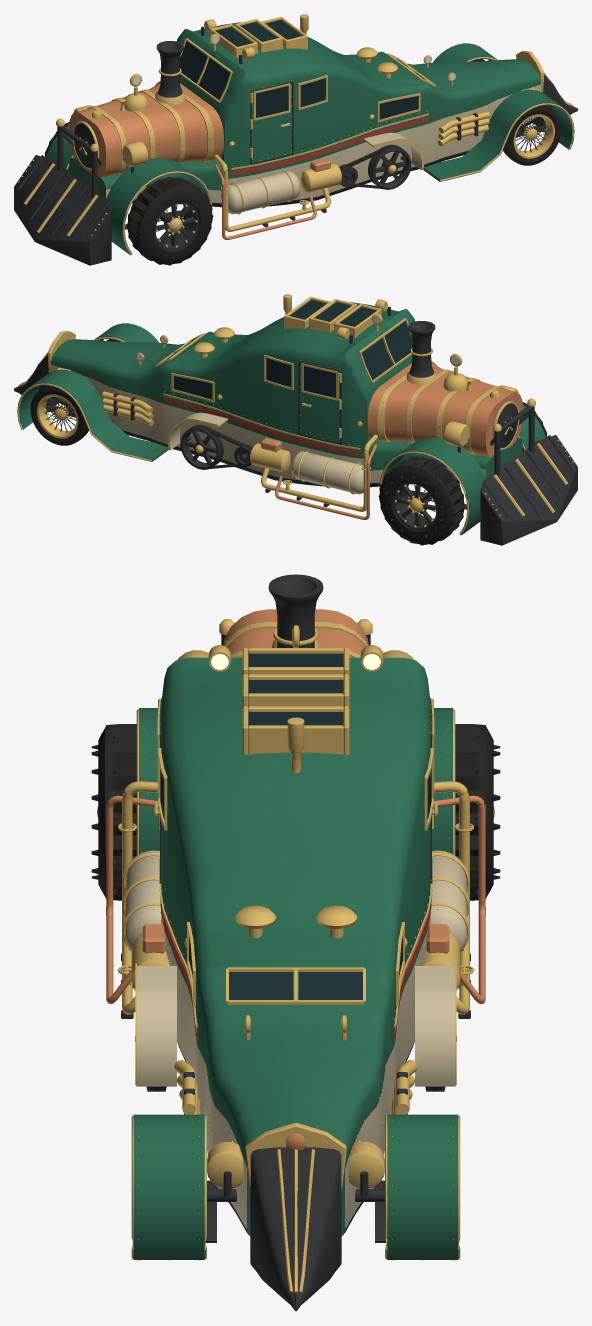
Rendered from boilerfang_blueprint.glb.
3 renders of one model, top to bottom at view 1: azimuth 30°, elevation 25°; view 2: azimuth 150°, elevation 25°; view 3: azimuth 270°, elevation 25°, orthographic. The views are drawn at different scales.
Parts seen in each view (by area): view 1: Body_Hull.001, Detail_Brass, Body_BoilerBarrel.001, Body_PlowTruck.001, Wheel_Truck_Tire_-1.001, Body_FenderSpeedster_-.001, Detail_Iron, Body_FenderTruck_-.001, Body_SideTank_-1.001, Body_Smokestack.001, Prop_MidDrive_Flywheel_-1.001, Wheel_Coupe_Tire_-1.001 (+21 smaller); view 2: Body_Hull.001, Detail_Brass, Body_BoilerBarrel.001, Body_PlowTruck.001, Wheel_Truck_Tire_+1.001, Body_FenderSpeedster_+.001, Detail_Iron, Body_FenderTruck_+.001, Body_SideTank_+1.001, Body_Smokestack.001, Prop_MidDrive_Flywheel_+1.001, Wheel_Coupe_Tire_+1.001 (+21 smaller); view 3: Body_Hull.001, Detail_Brass, Body_ProwSpeedster.001, Body_FenderSpeedster_-.001, Body_FenderSpeedster_+.001, Detail_Copper, Wheel_Truck_Tire_-1.001, Wheel_Truck_Tire_+1.001, Prop_MidDrive_Guard_-1.001, Prop_MidDrive_Guard_+1.001, Detail_Iron, Body_BoilerBarrel.001 (+10 smaller).
Boxes of the visible parts, <box> form: Body_Hull.001: <box>69,22,540,207</box>; Detail_Brass: <box>18,14,574,254</box>; Body_BoilerBarrel.001: <box>69,83,223,177</box>; Body_PlowTruck.001: <box>14,155,111,265</box>; Wheel_Truck_Tire_-1.001: <box>126,176,213,265</box>; Body_FenderSpeedster_-.001: <box>423,89,574,181</box>; Detail_Iron: <box>18,26,545,236</box>; Body_FenderTruck_-.001: <box>106,157,212,255</box>; Body_SideTank_-1.001: <box>221,171,300,214</box>; Body_Smokestack.001: <box>155,41,185,104</box>; Prop_MidDrive_Flywheel_-1.001: <box>368,144,411,189</box>; Wheel_Coupe_Tire_-1.001: <box>503,105,561,165</box>; Body_Hull.001: <box>51,302,522,487</box>; Detail_Brass: <box>17,294,573,534</box>; Body_BoilerBarrel.001: <box>368,363,522,457</box>; Body_PlowTruck.001: <box>480,435,577,545</box>; Wheel_Truck_Tire_+1.001: <box>378,456,465,545</box>; Body_FenderSpeedster_+.001: <box>17,369,168,461</box>; Detail_Iron: <box>46,306,573,516</box>; Body_FenderTruck_+.001: <box>379,437,485,535</box>; Body_SideTank_+1.001: <box>291,451,370,494</box>; Body_Smokestack.001: <box>406,321,436,384</box>; Prop_MidDrive_Flywheel_+1.001: <box>180,424,223,469</box>; Wheel_Coupe_Tire_+1.001: <box>30,385,88,445</box>; Body_Hull.001: <box>161,657,430,1235</box>; Detail_Brass: <box>117,619,474,1292</box>; Body_ProwSpeedster.001: <box>250,1147,341,1311</box>; Body_FenderSpeedster_-.001: <box>133,1114,204,1259</box>; Body_FenderSpeedster_+.001: <box>387,1114,458,1259</box>; Detail_Copper: <box>106,795,485,1151</box>; Wheel_Truck_Tire_-1.001: <box>91,724,136,900</box>; Wheel_Truck_Tire_+1.001: <box>455,724,500,900</box>; Prop_MidDrive_Guard_-1.001: <box>136,966,176,1086</box>; Prop_MidDrive_Guard_+1.001: <box>415,966,455,1086</box>; Detail_Iron: <box>121,634,470,1242</box>; Body_BoilerBarrel.001: <box>223,609,368,657</box>.
Size of the model in its own units: 4.95 by 1.53 by 1.61.
